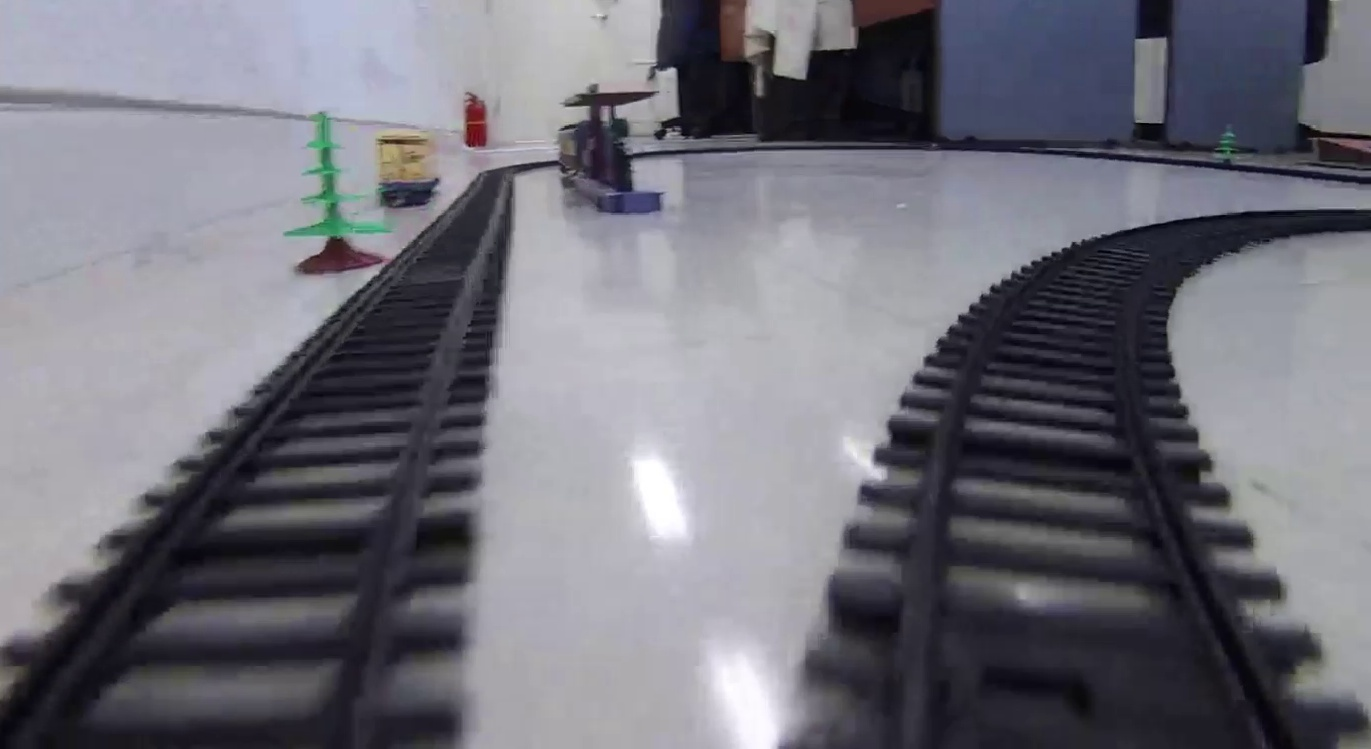tree: (281, 108, 389, 277)
